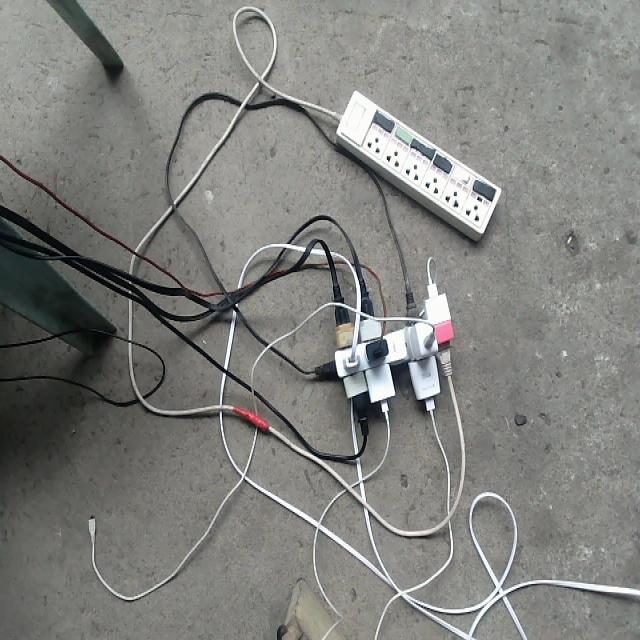-: (320, 284, 453, 421)
